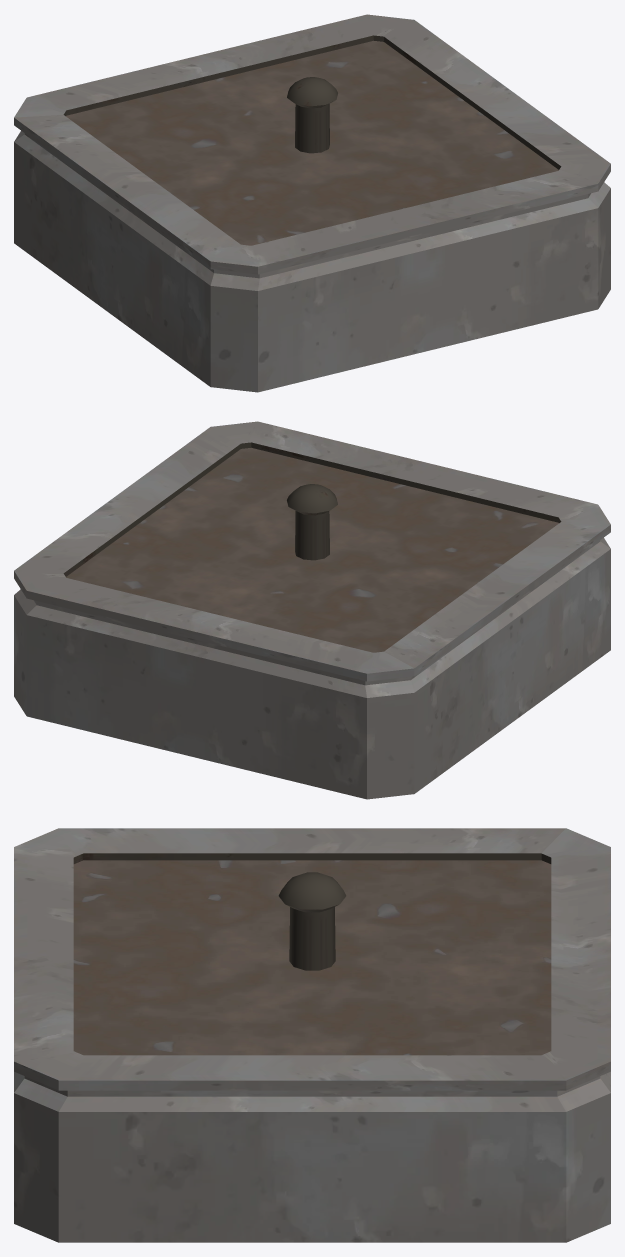
File: downtown.glb
3 renders of one model, top to bottom at view 1: azimuth 30°, elevation 25°; view 2: azimuth 150°, elevation 25°; view 3: azimuth 270°, elevation 25°, orthographic. The views are drawn at different scales.
Parts seen in each view (by area): view 1: Prop_Planter_Single, Prop_Bollard; view 2: Prop_Planter_Single, Prop_Bollard; view 3: Prop_Planter_Single, Prop_Bollard.
Part boxes in pixels (x1,y1,x2,y2): Prop_Planter_Single: (14, 14, 610, 392); Prop_Bollard: (287, 77, 337, 153); Prop_Planter_Single: (14, 421, 610, 799); Prop_Bollard: (287, 484, 337, 560); Prop_Planter_Single: (14, 828, 610, 1242); Prop_Bollard: (278, 872, 346, 970).
Size of the model in its own units: 2 by 0.8918 by 2.
2 materials, 2 textured.
